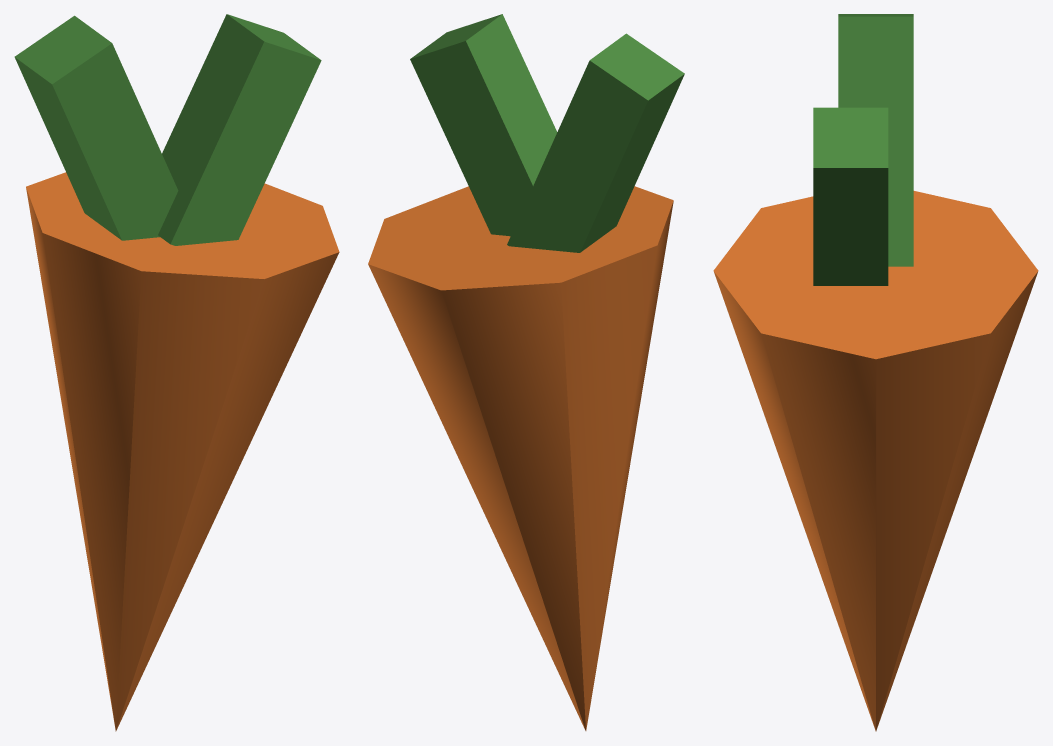
The model's file is item_vegetable.glb.
The picture shows the model from 3 angles, left to right: view 1: azimuth 30°, elevation 25°; view 2: azimuth 150°, elevation 25°; view 3: azimuth 270°, elevation 25°; orthographic projection. The views are drawn at different scales.
Visible parts, largest first — view 1: item_vegetable; view 2: item_vegetable; view 3: item_vegetable.
Part boxes in pixels (x1,y1,x2,y2): item_vegetable: (14,14,339,731); item_vegetable: (368,14,684,730); item_vegetable: (713,14,1038,731).
Size of the model in its own units: 0.266 by 0.6216 by 0.26.
